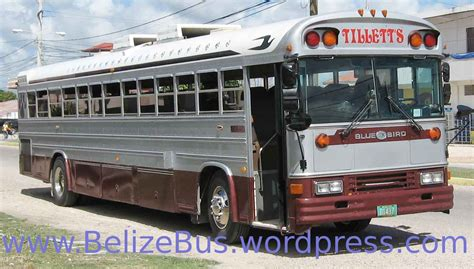bus: (17, 16, 454, 235)
